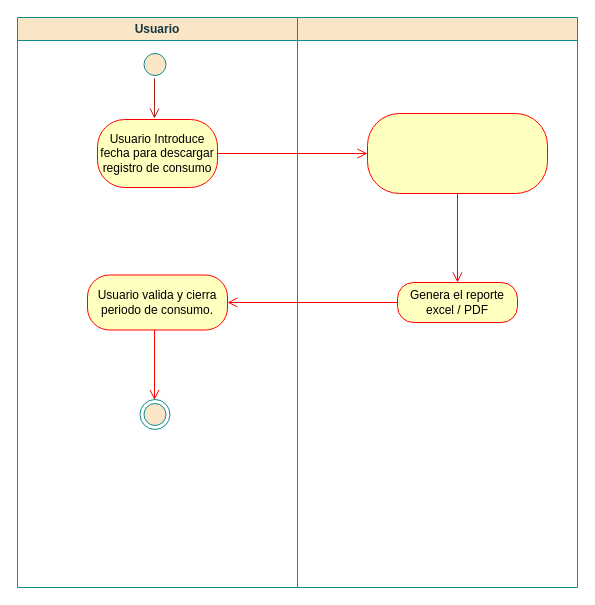
This 595x605 diagram has some shape labels left out. Here are the shapes that lost their labels. From the top down, the box of each, then its label:
(366, 112, 548, 194): Valida los registros . Si la tanda no esta cerrada, si el pase esta en spn, etc.
(296, 16, 578, 588): Sistema Oracle
